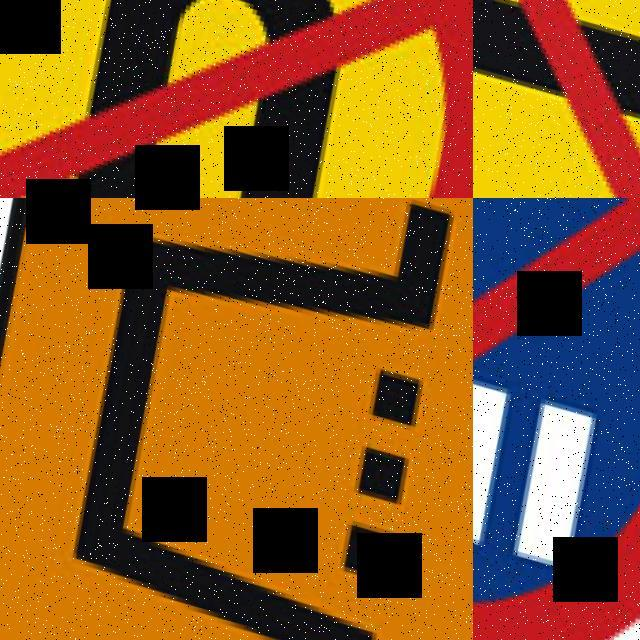20: (473, 198, 640, 640)
36: (473, 0, 640, 198)
84: (0, 198, 473, 640)
no u turn: (0, 0, 473, 198)
